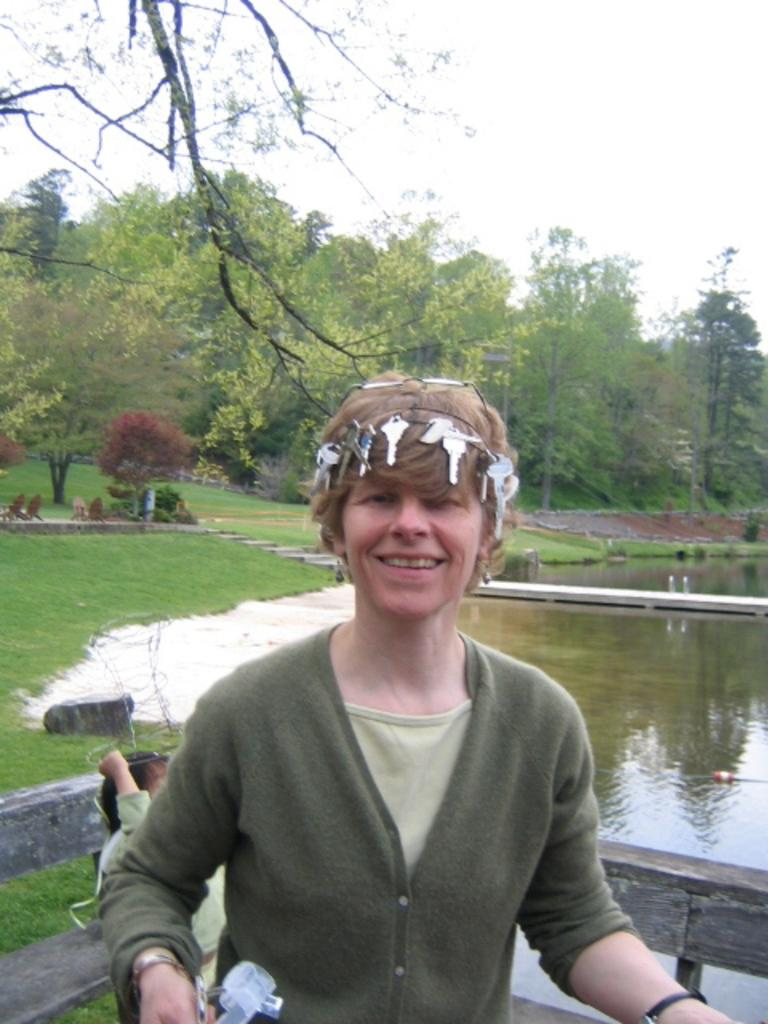Sem Máscara: (336, 446, 480, 605)
